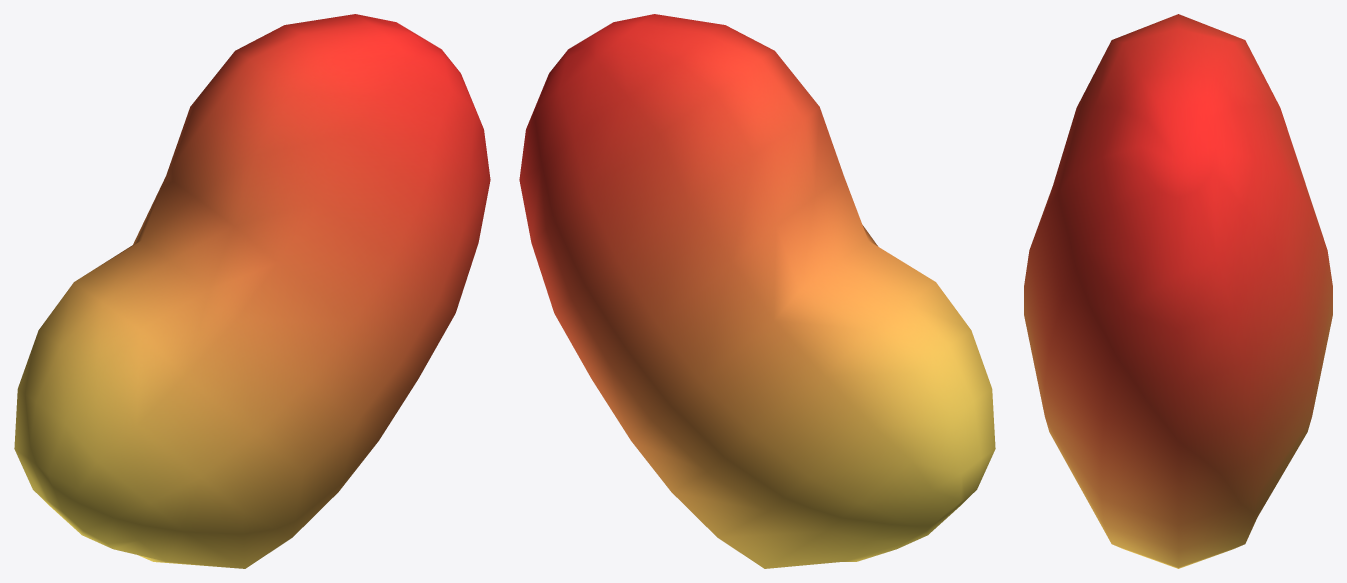
The model's file is JM_HeartRight.fbx.
The picture shows the model from 3 angles, left to right: view 1: azimuth 30°, elevation 25°; view 2: azimuth 150°, elevation 25°; view 3: azimuth 270°, elevation 25°; orthographic projection. The views are drawn at different scales.
Parts seen in each view (by area): view 1: polySurface265; view 2: polySurface265; view 3: polySurface265.
Part boxes in pixels (bbox=[...]): polySurface265: bbox=[14, 14, 490, 568]; polySurface265: bbox=[519, 14, 995, 568]; polySurface265: bbox=[1024, 14, 1332, 568].
Size of the model in its own units: 46.61 by 50.46 by 24.4.
